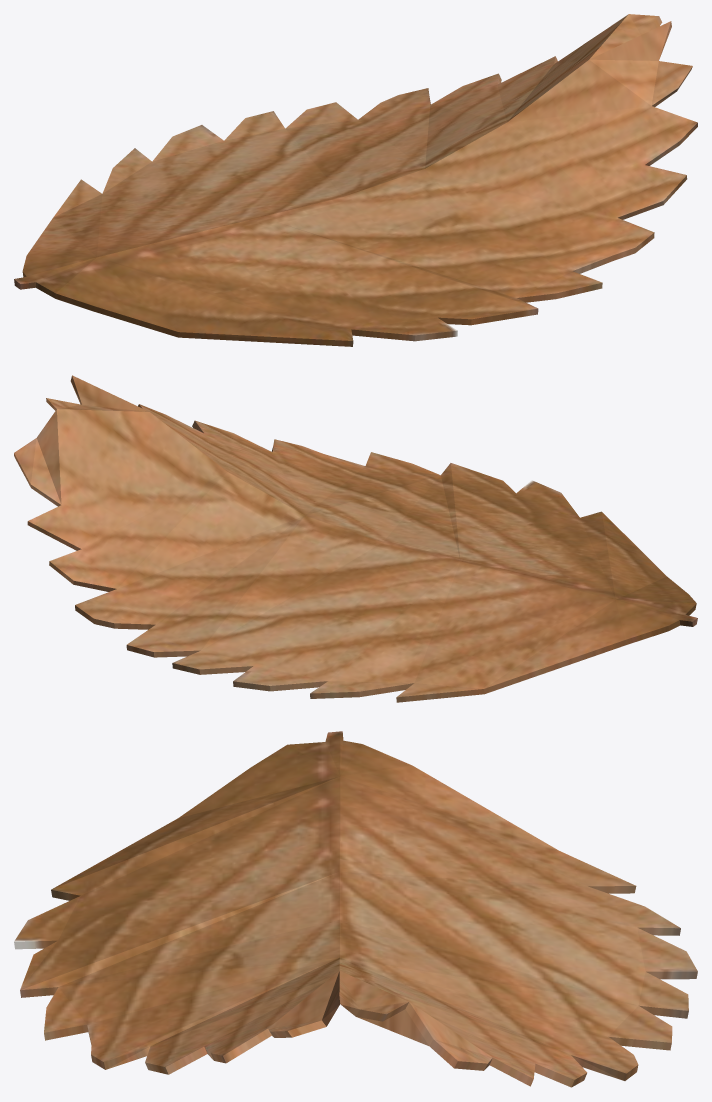
Rendered from leaf2_d2.dae.
3 renders of one model, top to bottom at view 1: azimuth 30°, elevation 25°; view 2: azimuth 150°, elevation 25°; view 3: azimuth 270°, elevation 25°, orthographic. The views are drawn at different scales.
Parts seen in each view (by area): view 1: Plane; view 2: Plane; view 3: Plane.
Part boxes in pixels (left/top/right/bottom): Plane: left=14, top=14, right=697, bottom=346; Plane: left=14, top=375, right=697, bottom=702; Plane: left=14, top=731, right=697, bottom=1087.
Bounding box in the file's own units: 0.1377 × 0.1018 × 0.0278.
1 material, 1 textured.
